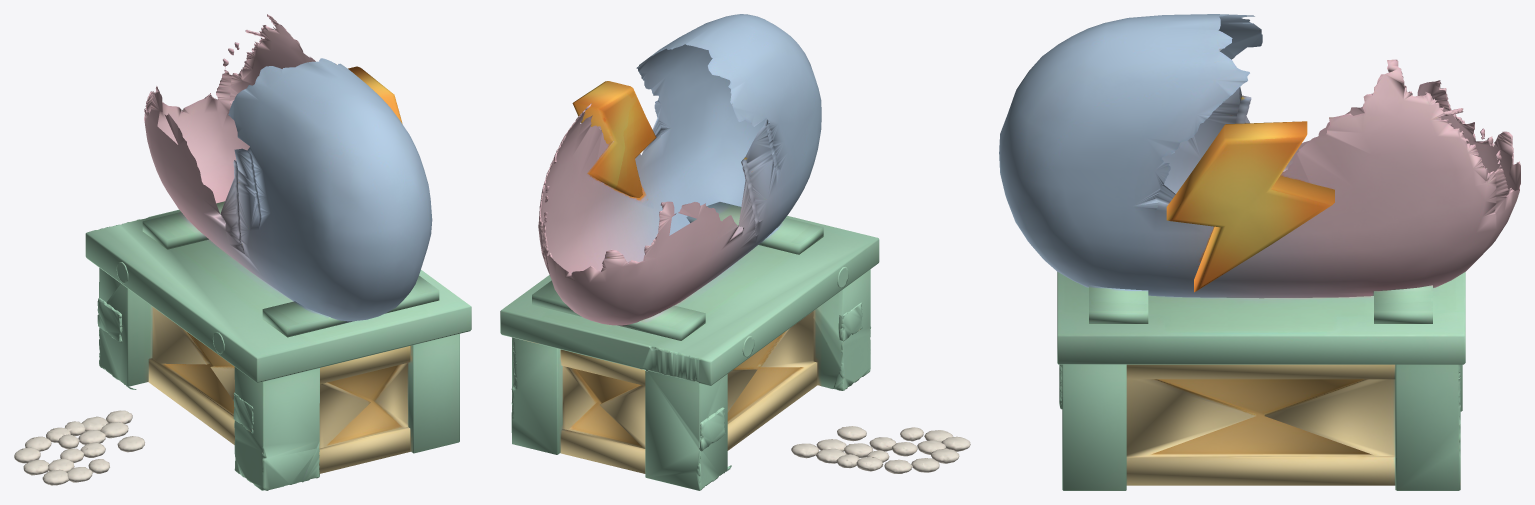
The picture shows the model from 3 angles, left to right: view 1: azimuth 30°, elevation 25°; view 2: azimuth 150°, elevation 25°; view 3: azimuth 270°, elevation 25°; orthographic projection. The views are drawn at different scales.
Visible parts, largest first — view 1: tripo_node_cb0072a5-62b3-41cb-966f-537c3f32088f; view 2: tripo_node_cb0072a5-62b3-41cb-966f-537c3f32088f; view 3: tripo_node_cb0072a5-62b3-41cb-966f-537c3f32088f.
Boxes of the visible parts, box(x1,y1,x2,y2) form: tripo_node_cb0072a5-62b3-41cb-966f-537c3f32088f: box(14, 14, 471, 490); tripo_node_cb0072a5-62b3-41cb-966f-537c3f32088f: box(500, 14, 970, 490); tripo_node_cb0072a5-62b3-41cb-966f-537c3f32088f: box(999, 14, 1520, 490).
Bounding box in the file's own units: 0.9746 × 0.8867 × 0.998.
1 material, 1 textured.
